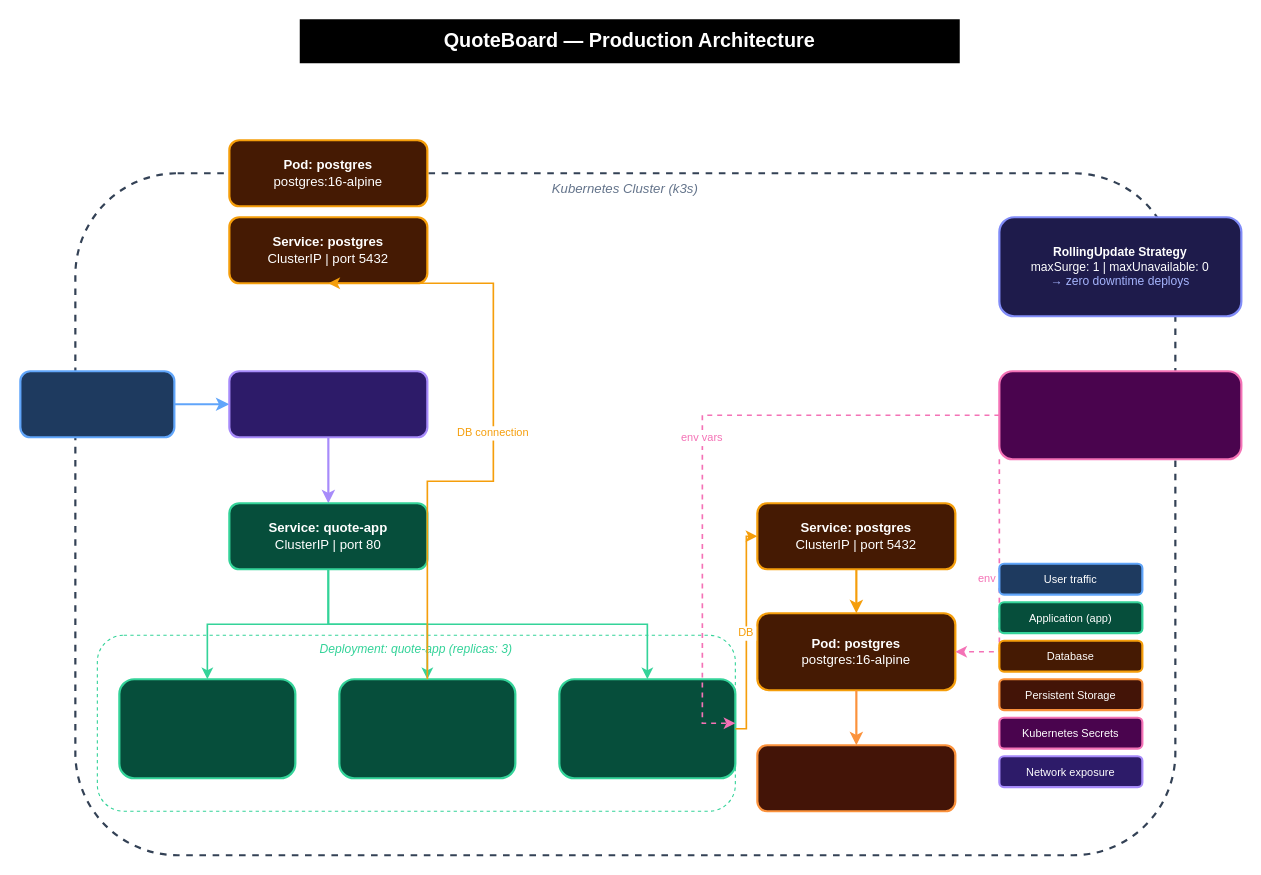
Some shapes in this 1261 by 875 pixel diagram are drawn without their labels. The shapes that lost their labels are listed below. From the top down, each one's centre as x and y in pixels, then its label:
At [97,404]: "Users Internet".
At [328,404]: "NodePort / Ingress port 30080 → 80".
At [1120,415]: "Secret: quote-db-secret DATABASE_URL, PG_USER, PG_PASS (base64 encoded)".
At [207,728]: "Pod 1 quote-app:v2 readiness + liveness".
At [427,728]: "Pod 2 quote-app:v2 readiness + liveness".
At [647,728]: "Pod 3 quote-app:v2 readiness + liveness".
At [856,778]: "PVC: postgres-data 1Gi — ReadWriteOnce".
